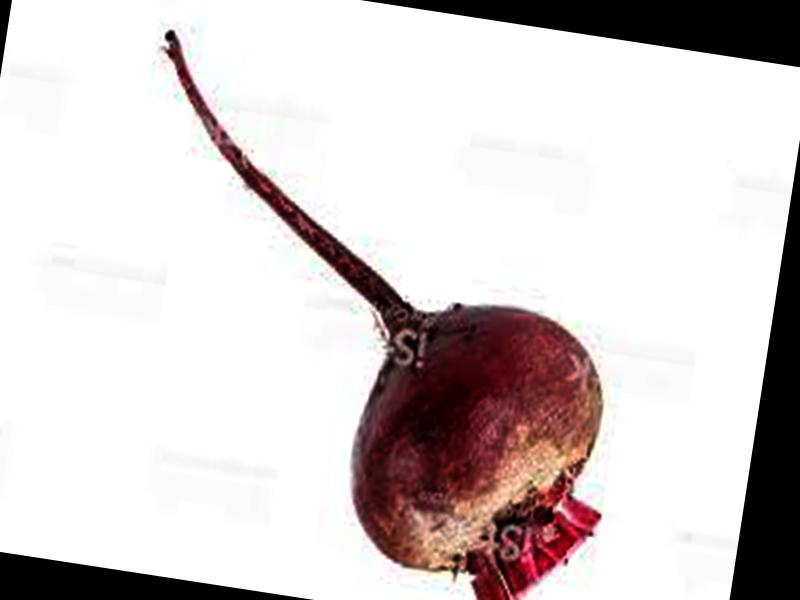Beet: (85, 32, 660, 600)
